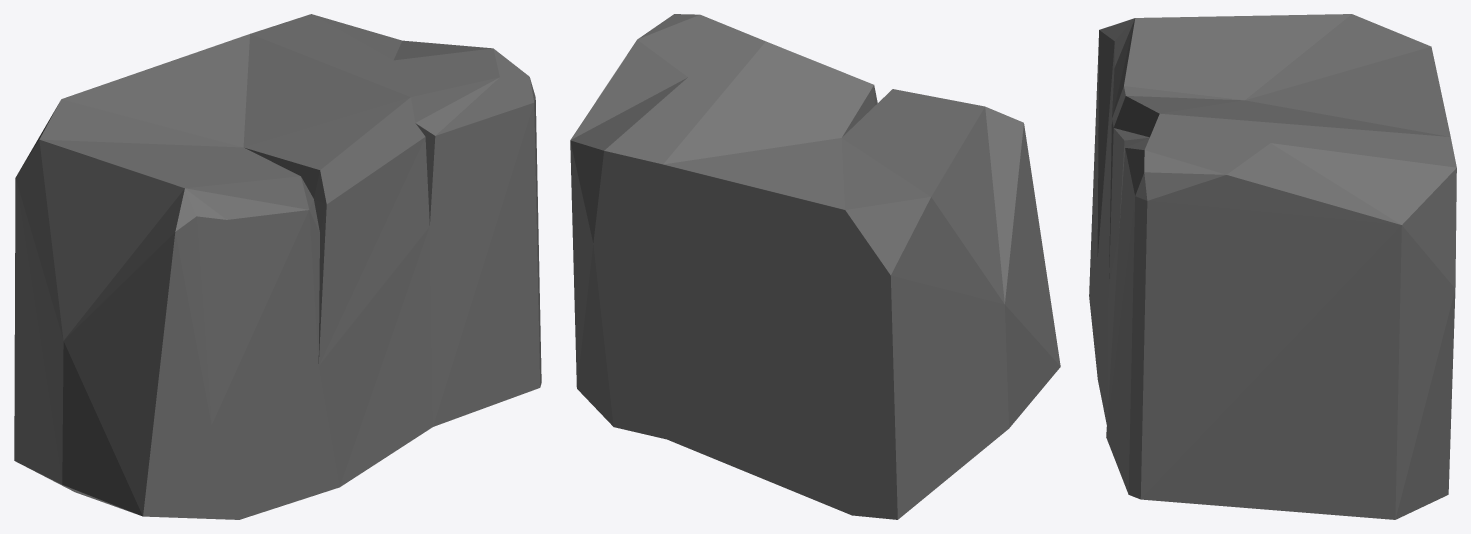
Rendered from rock_006.glb.
The picture shows the model from 3 angles, left to right: view 1: azimuth 30°, elevation 25°; view 2: azimuth 150°, elevation 25°; view 3: azimuth 270°, elevation 25°; orthographic projection. The views are drawn at different scales.
Visible parts, largest first — view 1: rock_006; view 2: rock_006; view 3: rock_006.
Part boxes in pixels (x1,y1,x2,y2): rock_006: (14,14,541,519); rock_006: (570,14,1060,519); rock_006: (1089,14,1456,519).
Bounding box in the file's own units: 16.27 × 14.25 × 11.39.
Materials: 1 (1 with a texture image).
